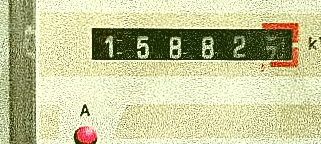1: (103, 30, 116, 59)
2: (230, 33, 247, 59)
5: (133, 32, 151, 62)
7: (263, 42, 276, 59)
8: (166, 33, 182, 61), (199, 32, 215, 60)
screen: (78, 10, 305, 75)
